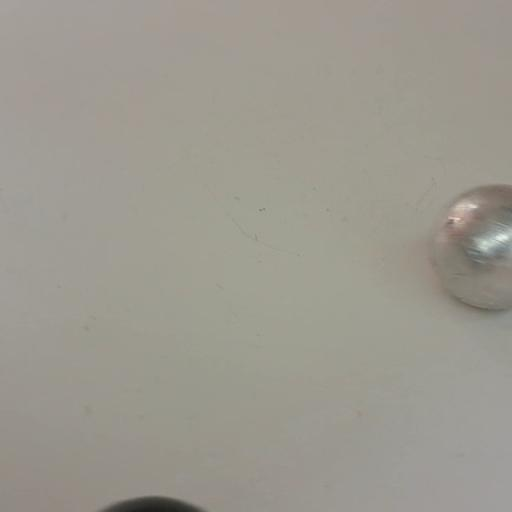alive: (422, 180, 512, 312)
dead: (99, 495, 200, 512)
